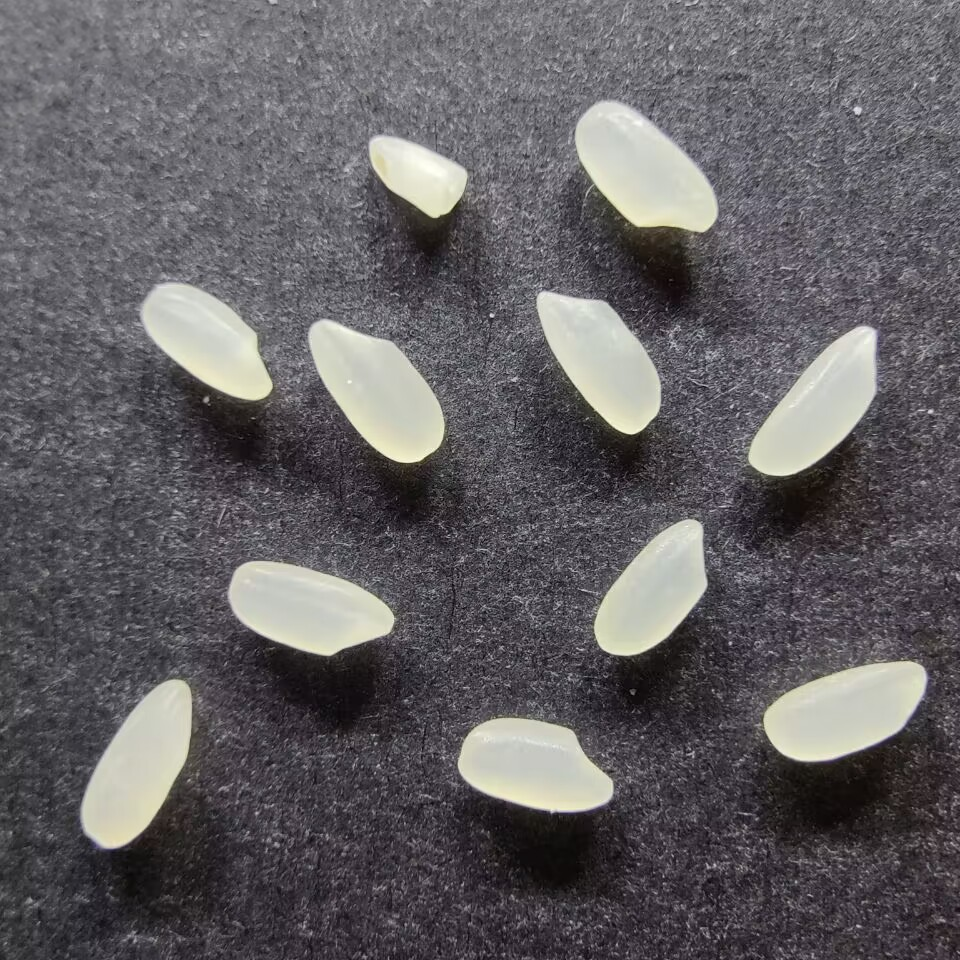broken: (368, 130, 469, 220)
rice: (308, 315, 448, 464), (77, 676, 196, 850), (746, 322, 878, 477), (572, 98, 720, 233), (535, 287, 663, 438), (761, 658, 928, 763), (225, 559, 397, 658), (591, 517, 711, 657), (138, 281, 273, 401), (456, 715, 615, 814)
